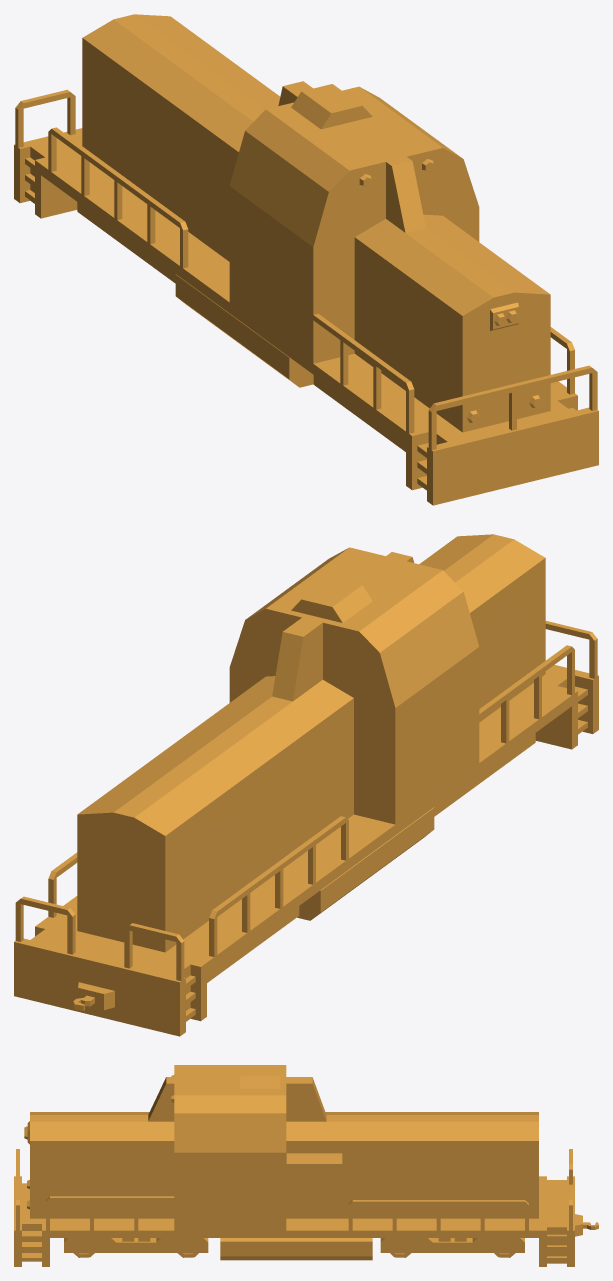
Rendered from freight-train.glb.
3 views of the same model, one above another, from view 1: azimuth 30°, elevation 25°; view 2: azimuth 150°, elevation 25°; view 3: azimuth 270°, elevation 25° (orthographic). The views are drawn at different scales.
Visible parts, largest first — view 1: freight-train-base, freight-train-wheel-frame_B, freight-train-wheel-frame_F; view 2: freight-train-base, freight-train-wheel-frame_F, freight-train-wheel-frame_B; view 3: freight-train-base, freight-train-wheel-frame_B, freight-train-wheel-frame_F.
Boxes of the visible parts, x1=… form: freight-train-base: x1=14, y1=14, x2=598, y2=505; freight-train-wheel-frame_B: x1=77, y1=202, x2=175, y2=283; freight-train-wheel-frame_F: x1=313, y1=375, x2=405, y2=451; freight-train-base: x1=14, y1=534, x2=598, y2=1036; freight-train-wheel-frame_F: x1=434, y1=733, x2=535, y2=816; freight-train-wheel-frame_B: x1=207, y1=906, x2=299, y2=982; freight-train-base: x1=14, y1=1065, x2=598, y2=1266; freight-train-wheel-frame_B: x1=380, y1=1238, x2=524, y2=1252; freight-train-wheel-frame_F: x1=64, y1=1238, x2=208, y2=1252.
Bounding box in the file's own units: 3.2 × 4.81 × 14.6.
